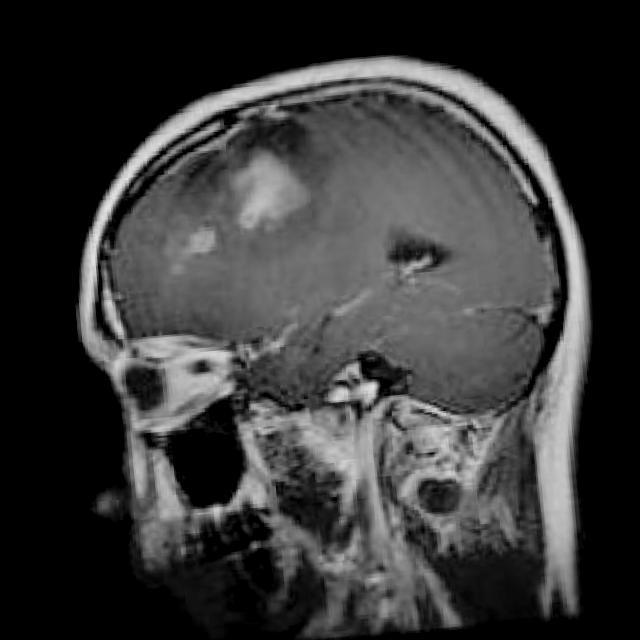MCI: (150, 123, 350, 259)
